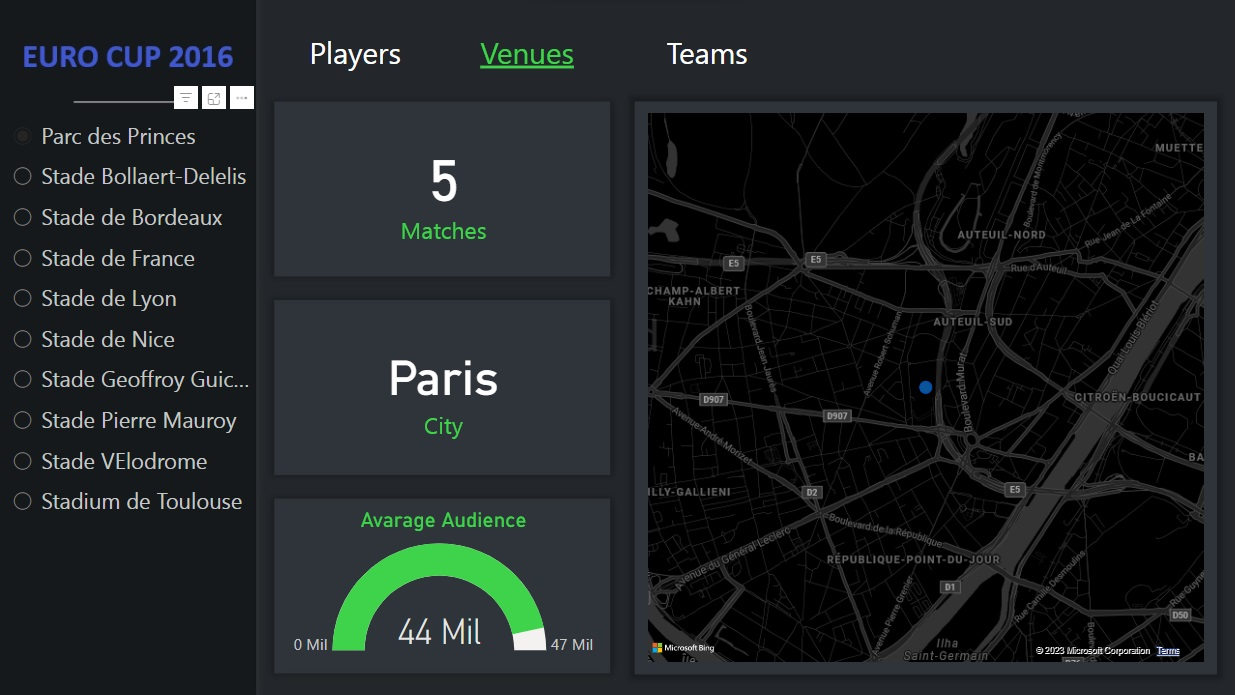

What the dashboard file says about the page in this screenshot:
{"tool":"powerbi","page":{"name":"venues","canvas":[1280,720],"ordinal":1},"visuals":[{"type":"slicer","fields":{"Values":["vw_general_venue.venue_name"]},"box":[0,113.9,265,606.1],"z":0},{"type":"card","fields":{"Values":["Sum(vw_general_venue.games_played)"]},"box":[295,111.7,330,165],"z":1000},{"type":"gauge","title":"Avarage Audience","fields":{"MaxValue":["Sum(vw_general_venue.aud_capacity)"],"Y":["Sum(vw_general_venue.avarage_audence)"]},"box":[295,525,330,165],"z":2000},{"type":"card","fields":{"Values":["Min(vw_general_venue.city)"]},"box":[295,318.3,330,165],"z":3000},{"type":"map","fields":{"Category":["vw_general_venue.venue_name"]},"box":[666.7,111.7,585,578.3],"z":4000},{"type":"shape","box":[295.6,25,145,56.7],"z":5000},{"type":"shape","box":[473.3,25,145,56.7],"z":6000},{"type":"shape","box":[660,25,145,56.7],"z":7000}]}

Visuals, with their boxes in screenshot pixels (x1, y1, x2, y2), scaled from the page's 1280x720 canvas onto the 1235x695 screenshot:
slicer - vw_general_venue.venue_name: x1=0, y1=110, x2=256, y2=694
card - Sum(vw_general_venue.games_played): x1=285, y1=108, x2=603, y2=267
"Avarage Audience" gauge: x1=285, y1=507, x2=603, y2=666
card - Min(vw_general_venue.city): x1=285, y1=307, x2=603, y2=467
map - vw_general_venue.venue_name: x1=643, y1=108, x2=1208, y2=666
shape: x1=285, y1=24, x2=425, y2=79
shape: x1=457, y1=24, x2=597, y2=79
shape: x1=637, y1=24, x2=777, y2=79
